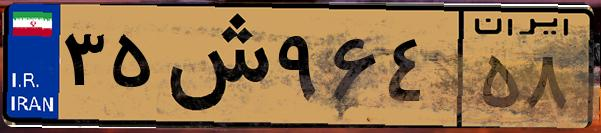3: (57, 26, 110, 100)
4: (385, 28, 445, 110)
5: (475, 38, 525, 113), (110, 28, 158, 98)
6: (330, 28, 385, 110)
8: (525, 38, 570, 115)
9: (270, 28, 330, 110)
ش: (158, 12, 270, 120)
